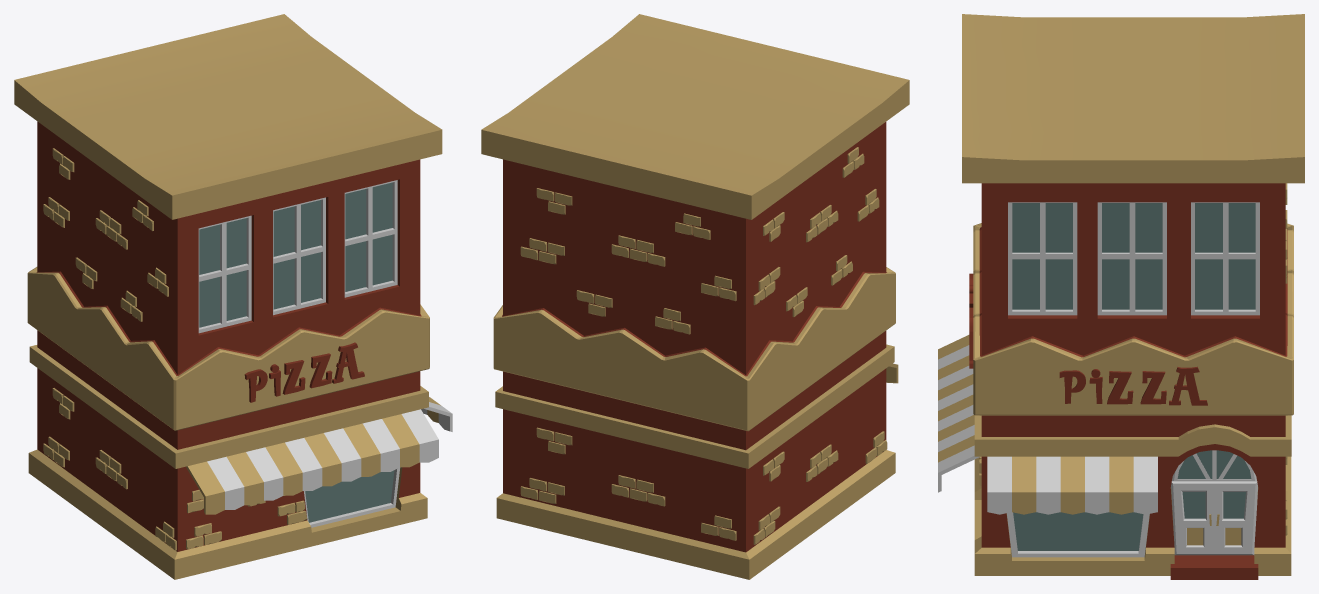
Rendered from pizzashop.glb.
3 views of the same model, side by side, from view 1: azimuth 30°, elevation 25°; view 2: azimuth 150°, elevation 25°; view 3: azimuth 270°, elevation 25° (orthographic). The views are drawn at different scales.
Parts seen in each view (by area): view 1: pizza shop; view 2: pizza shop; view 3: pizza shop.
Boxes of the visible parts, left/top/right/bottom form: pizza shop: left=14, top=14, right=452, bottom=579; pizza shop: left=481, top=14, right=909, bottom=579; pizza shop: left=938, top=14, right=1304, bottom=579.
Size of the model in its own units: 6.59 by 8.42 by 6.61.
